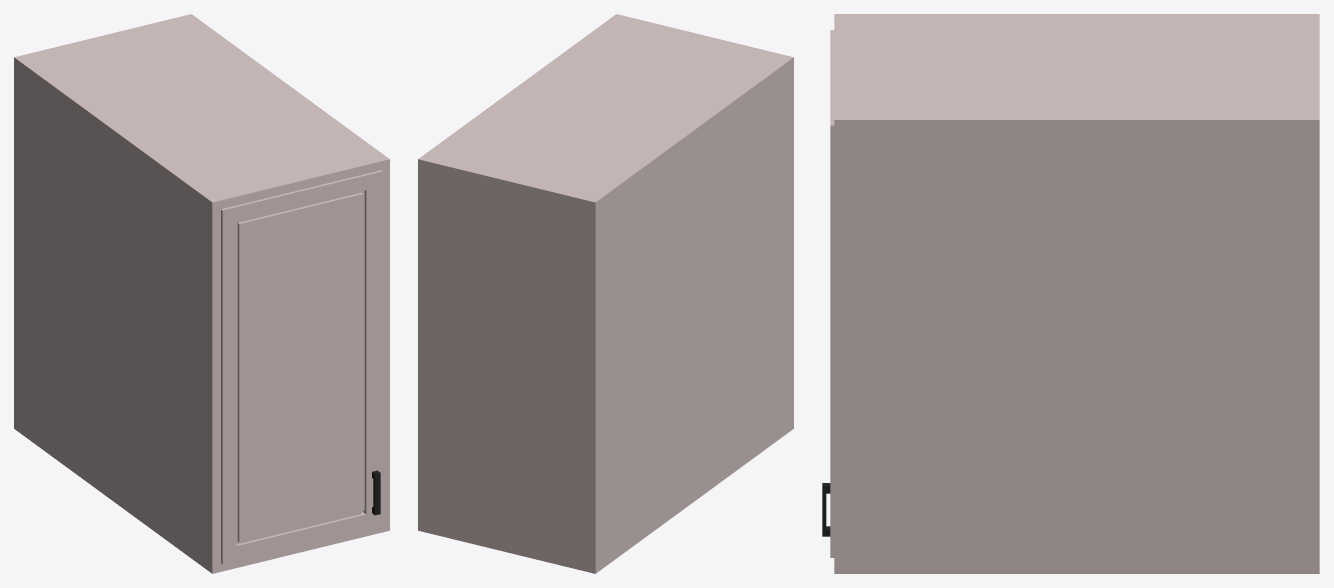
File: cupboard3.obj
3 renders of one model, left to right at view 1: azimuth 30°, elevation 25°; view 2: azimuth 150°, elevation 25°; view 3: azimuth 270°, elevation 25°, orthographic. The views are drawn at different scales.
Size of the model in its own units: 6.3 by 12.6 by 12.5.
1 material, 1 textured.
